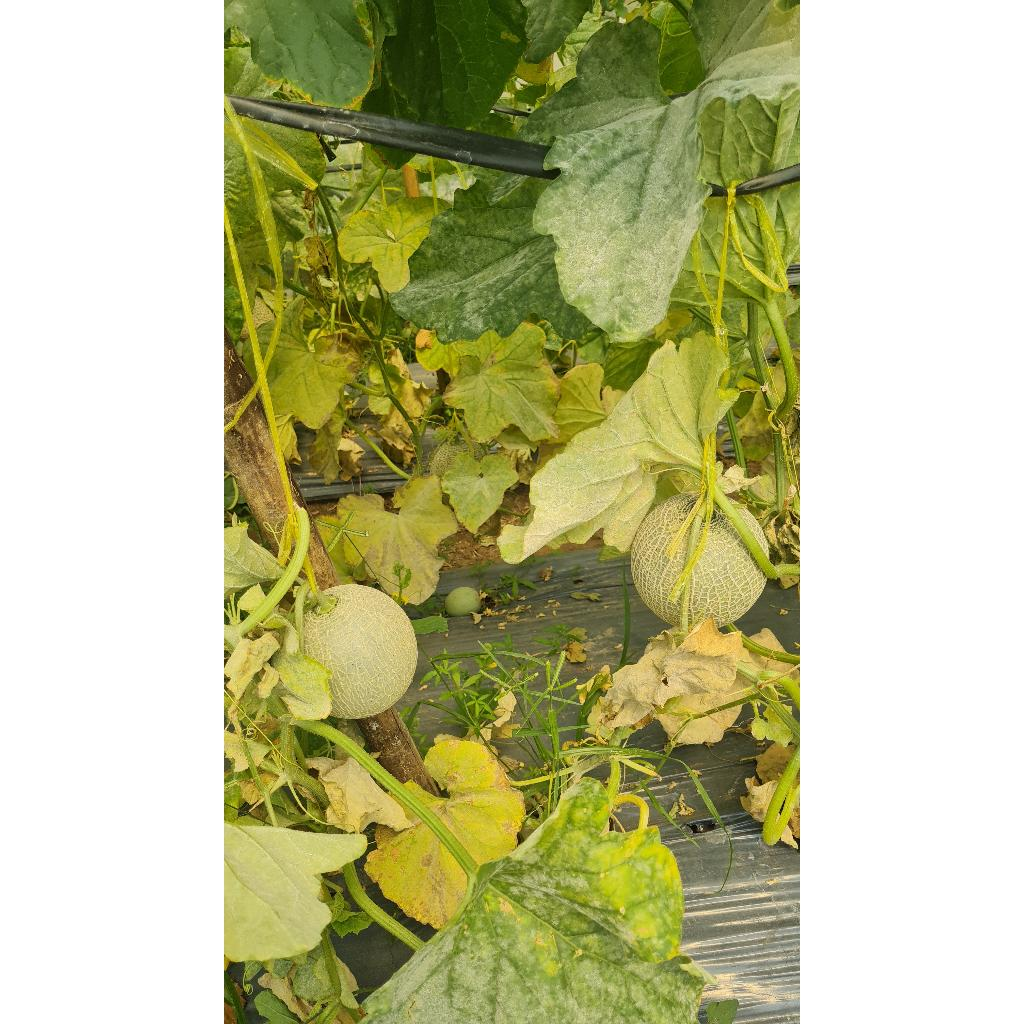melon: (304, 584, 418, 720), (688, 508, 766, 626), (630, 492, 698, 626), (738, 508, 768, 554), (376, 630, 380, 632)
